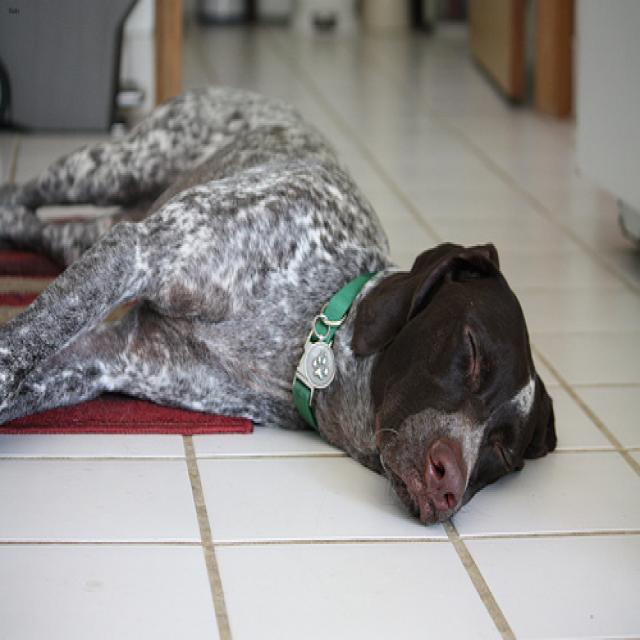dog-german_shorthaired: (1, 77, 567, 536)
